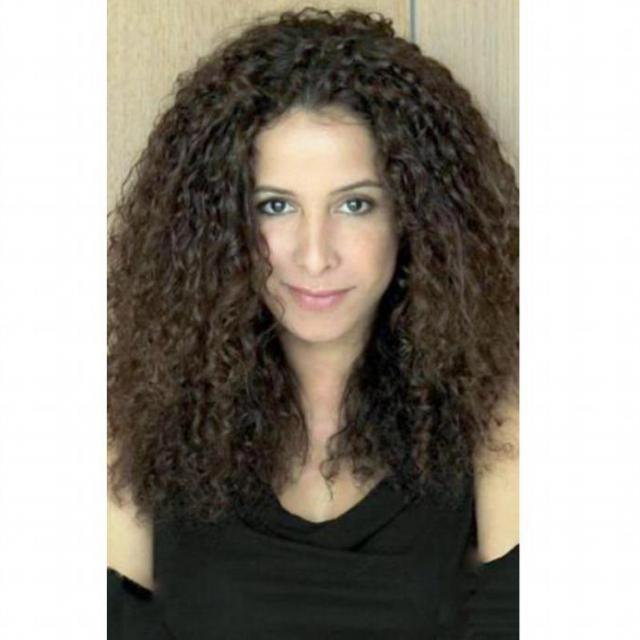live: (215, 100, 403, 344)
